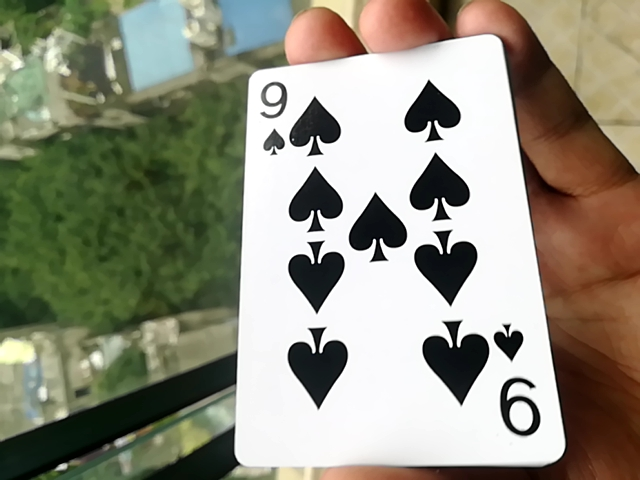ht 9: (226, 33, 549, 467)
